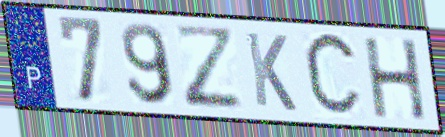7: (55, 13, 107, 107)
9: (118, 22, 176, 108)
C: (301, 28, 365, 122)
H: (360, 36, 430, 122)
K: (243, 29, 300, 114)
Z: (171, 22, 247, 111)
